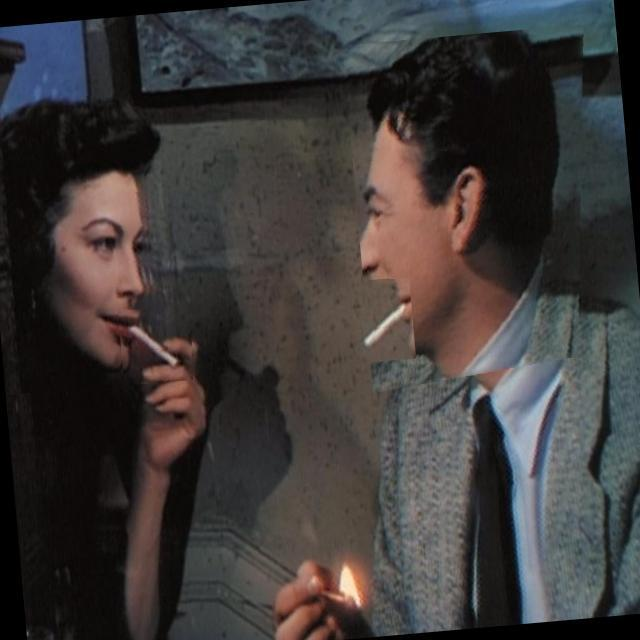cigarette: (332, 275, 416, 365), (118, 304, 196, 386)
